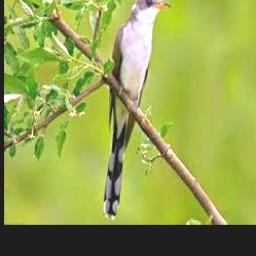Cuckoo: (102, 0, 171, 219)
